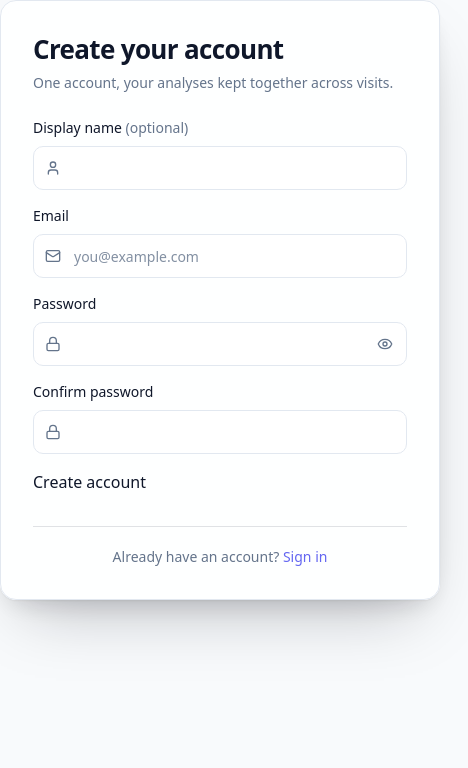
Register page › turns a 409 into the server message plus a sign-in link
The width and height of the screenshot is (468, 768).
Type "Analyst" into the field labelled "Display name (optional)". click: (220, 168)
box: [33,146,407,190]
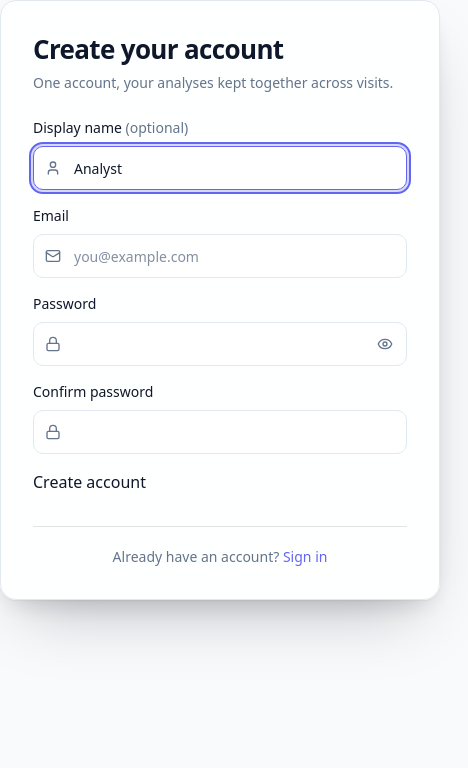
Type "analyst@example.com" into the field labelled "Email". click: (220, 256)
box: [33,234,407,278]
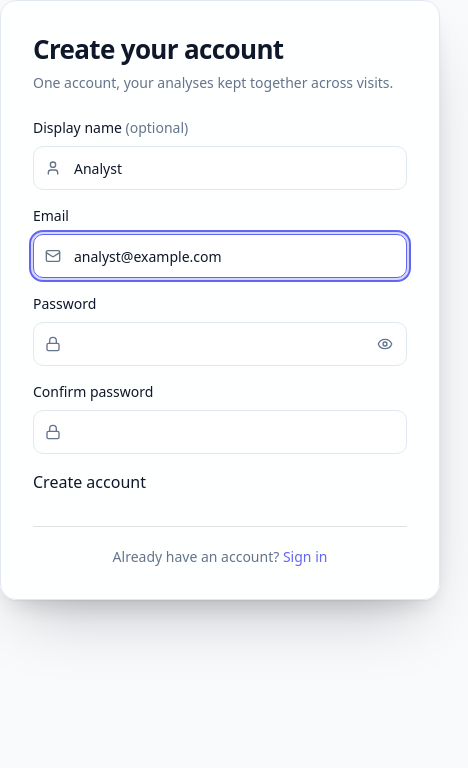
Type "correct horse battery staple" into the password field labelled "Password". click: (220, 344)
box: [33,322,407,366]
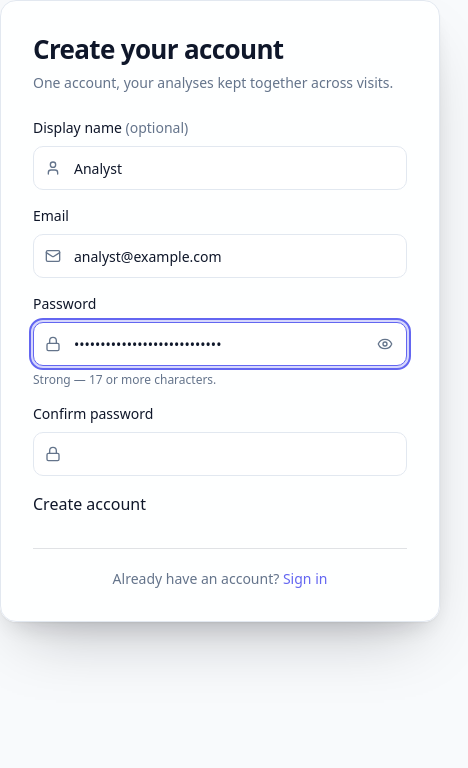
Type "correct horse battery staple" into the password field labelled "Confirm password". click: (220, 454)
box: [33,432,407,476]
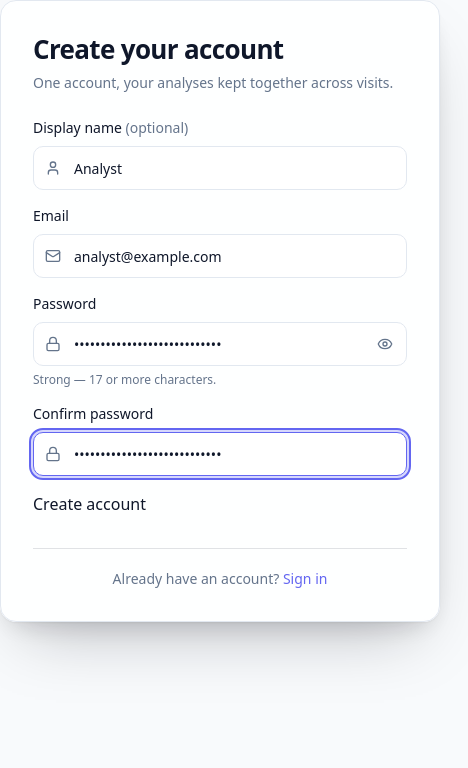
Click the button "Create account". click: (89, 504)
box: [33,492,146,516]
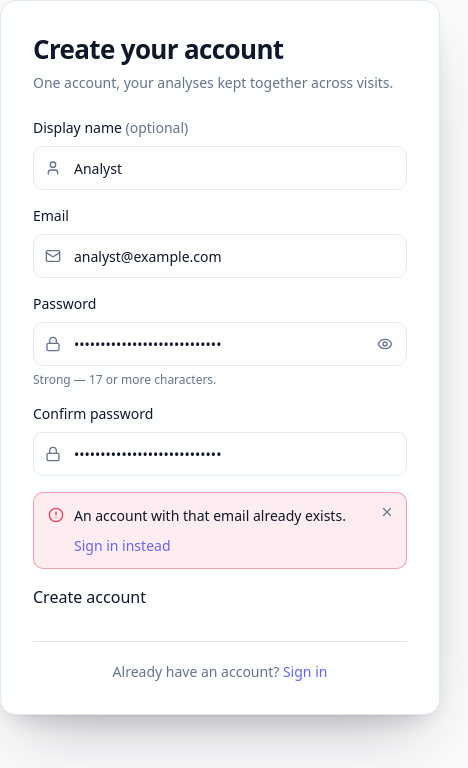
Now the text "An account with that email already exists." is shown, box [74,505,366,528]
